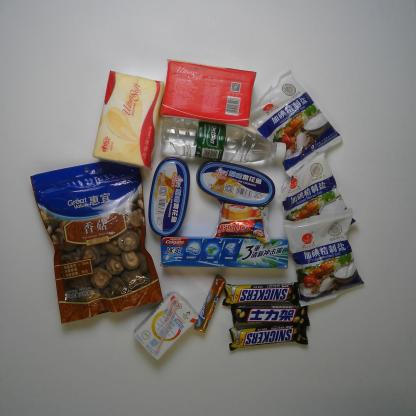Candy: (192, 273, 226, 333)
Canned Food: (196, 160, 276, 208), (148, 156, 191, 237)
Chocolate: (227, 326, 309, 352), (221, 282, 303, 308), (230, 303, 311, 329)
Dessert: (212, 198, 272, 245)
Dried Food: (31, 156, 164, 324)
Drink: (157, 115, 286, 164)
Milk: (132, 291, 199, 361)
Personal Hygiene: (159, 235, 291, 270)
Seasoner: (243, 69, 344, 179), (282, 207, 366, 309), (281, 151, 357, 243)
Tissue: (91, 70, 165, 169), (161, 57, 257, 127)
